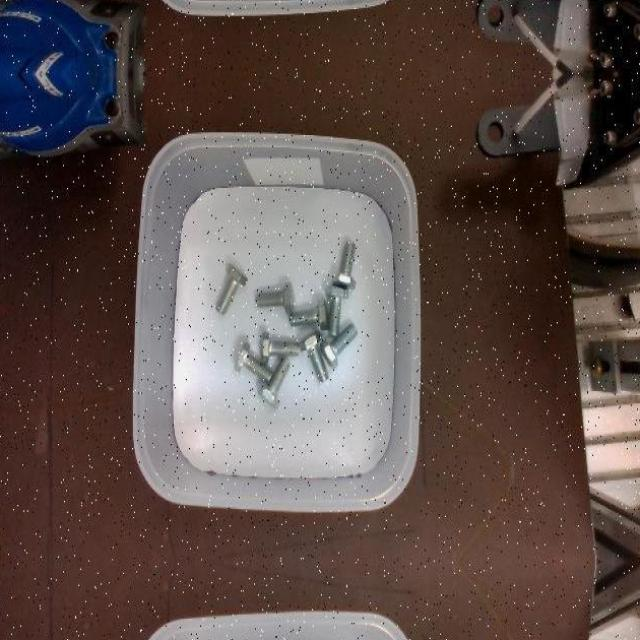screw: (259, 354, 292, 409), (320, 322, 359, 368), (235, 340, 273, 382), (300, 330, 329, 383), (261, 332, 300, 365), (325, 285, 349, 337), (256, 280, 295, 312), (290, 298, 329, 330), (332, 240, 357, 288)
